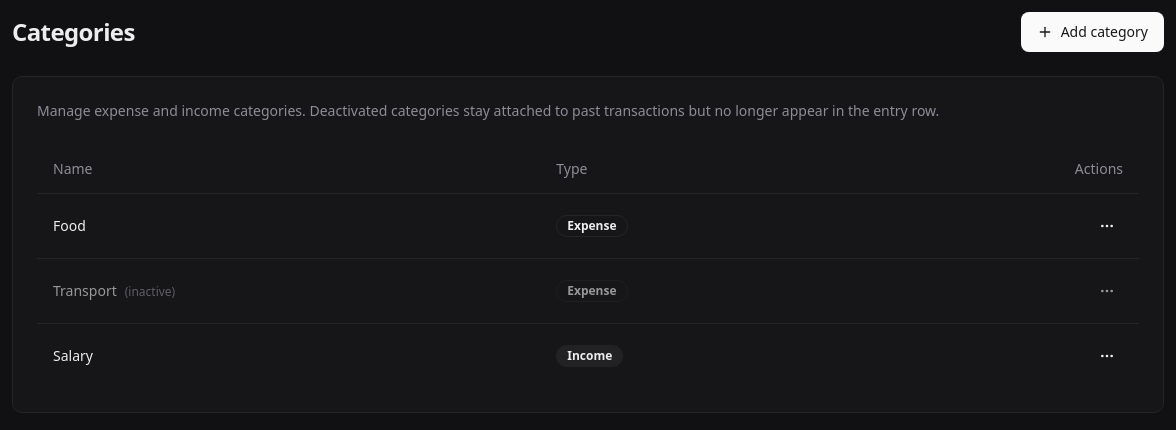
Test: Categories › as admin › row kebab menu opens Edit and Activate/Deactivate actions
Check: the text "Food" is shown, box top-left (37, 193), bottom-right (540, 258)
Click the button named "actions for food" at [1107, 226], box top-left (1091, 210), bottom-right (1123, 242)
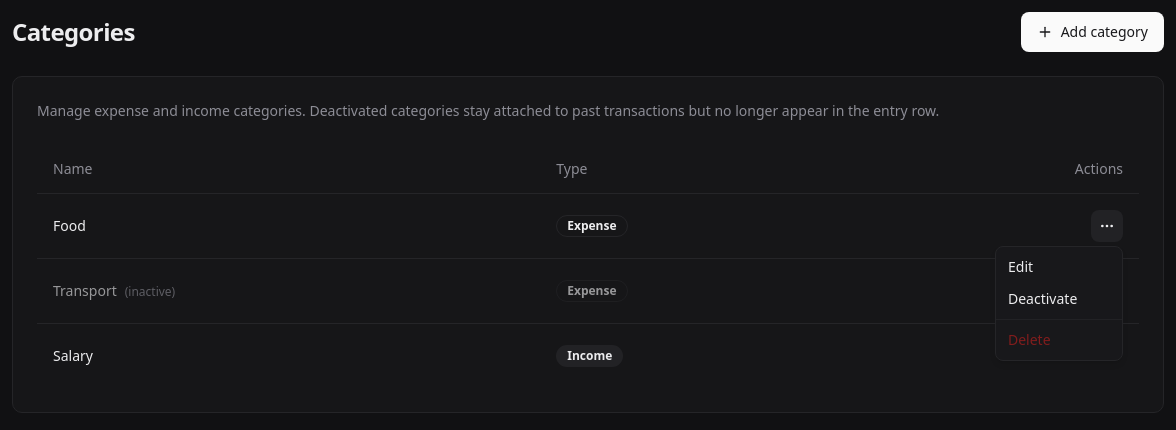
Check: the menu item "Edit" is shown, box top-left (1008, 257), bottom-right (1033, 276)
Check: the menu item "Deactivate" is shown, box top-left (1008, 289), bottom-right (1077, 308)
